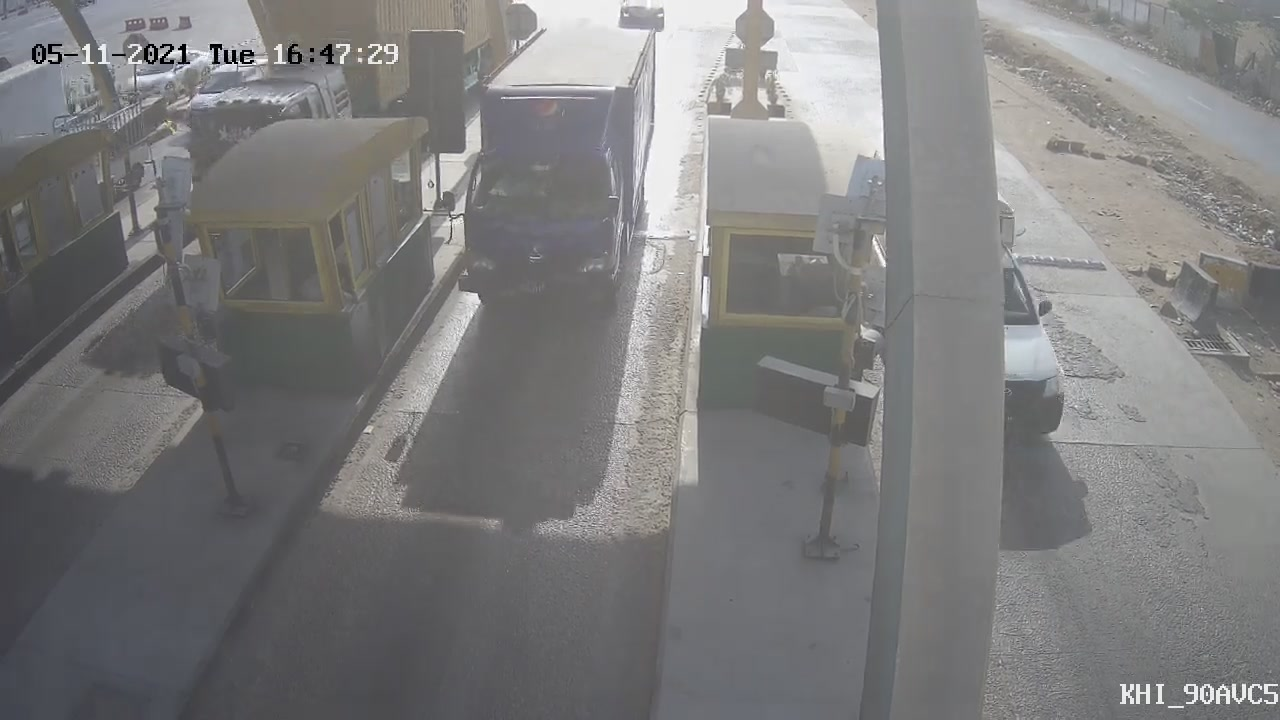F5: (408, 16, 673, 336)
